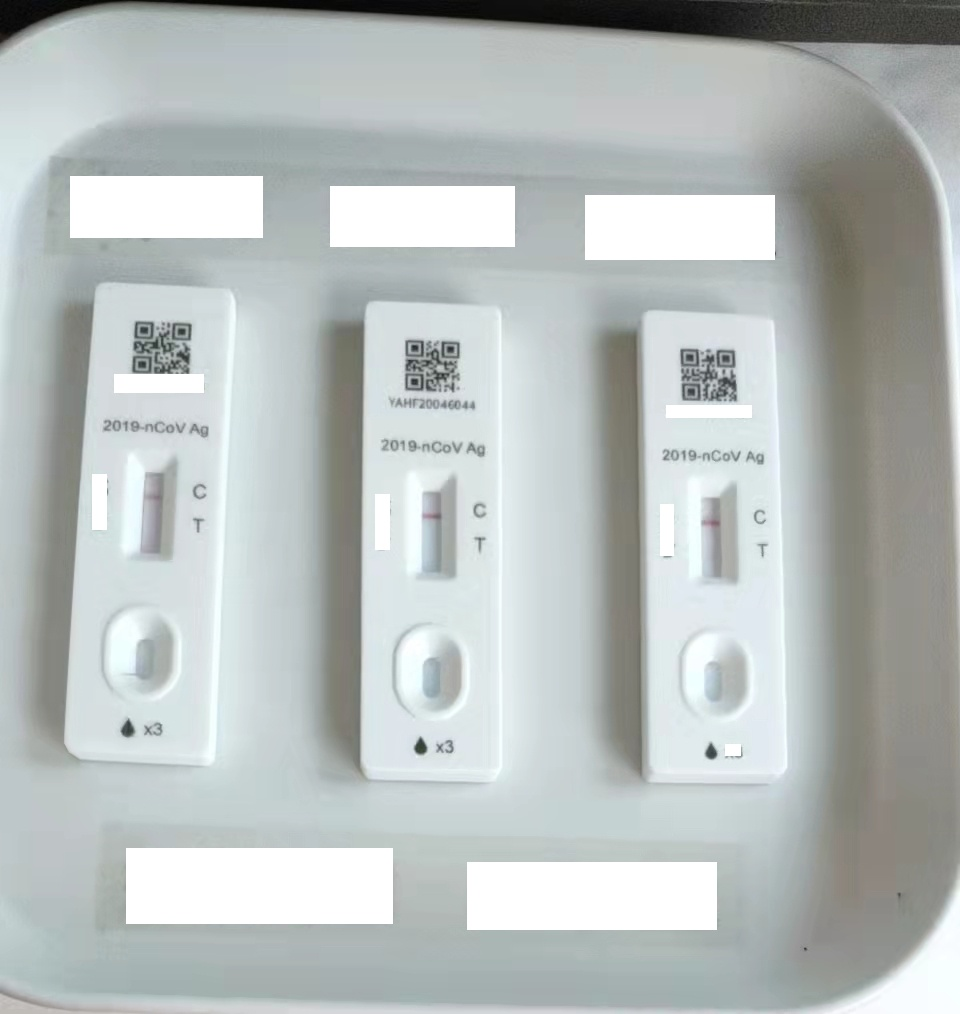negative: (128, 455, 176, 565), (693, 482, 738, 588), (414, 473, 456, 582)
